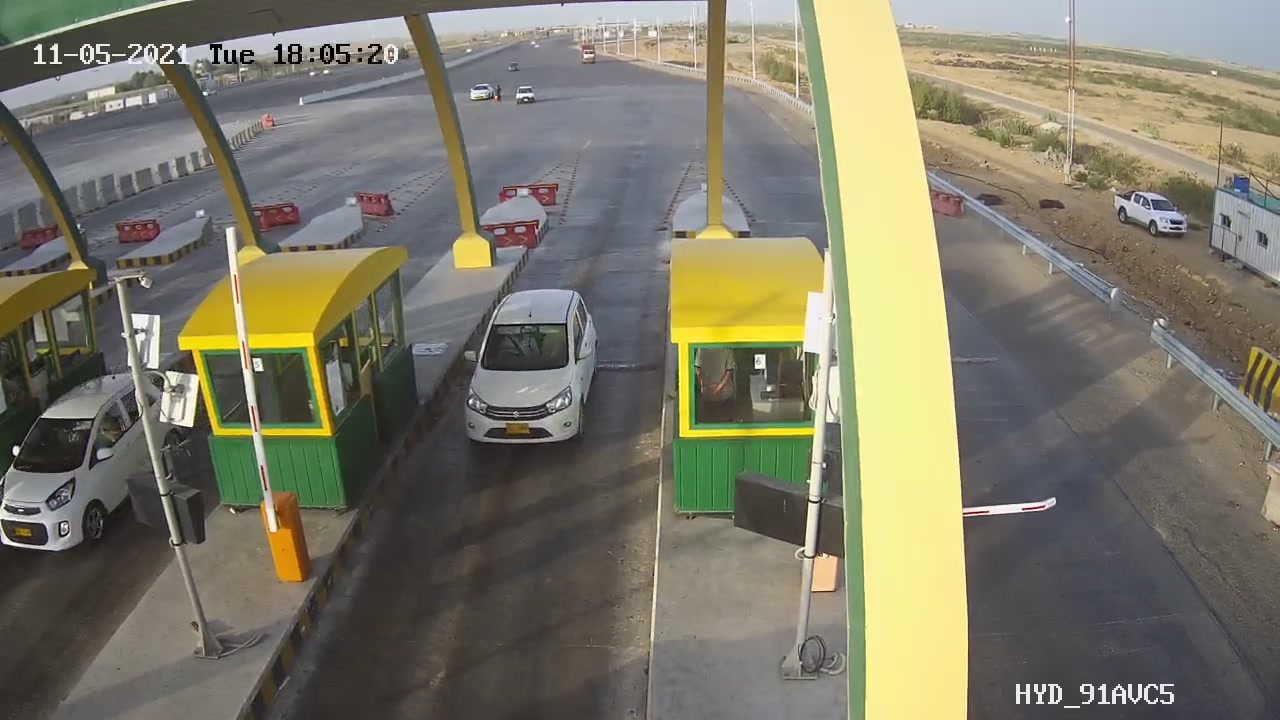F1: (451, 275, 617, 461)
